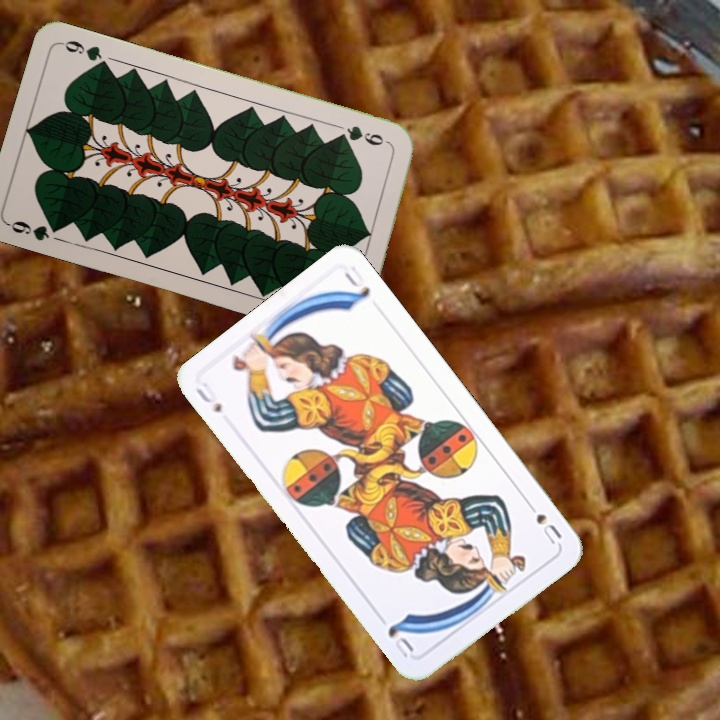G9: (4, 216, 65, 244), (333, 121, 393, 149)
SU: (521, 495, 565, 547), (191, 378, 225, 416)
